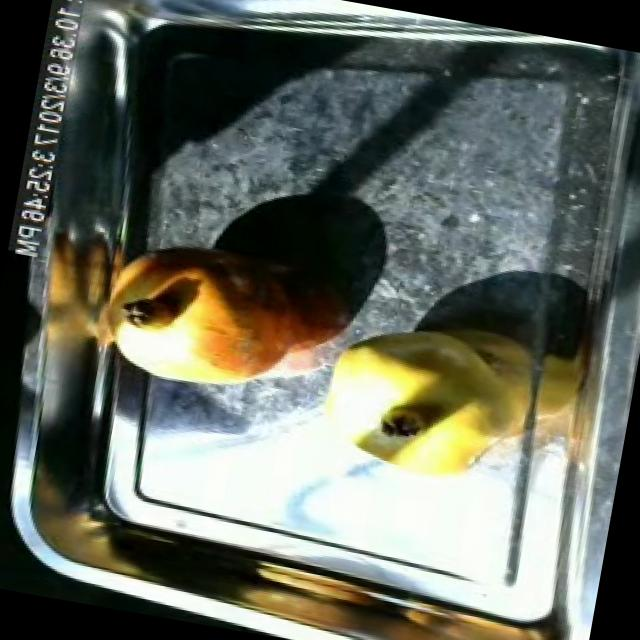fruit: (295, 296, 547, 501), (89, 217, 327, 408)
